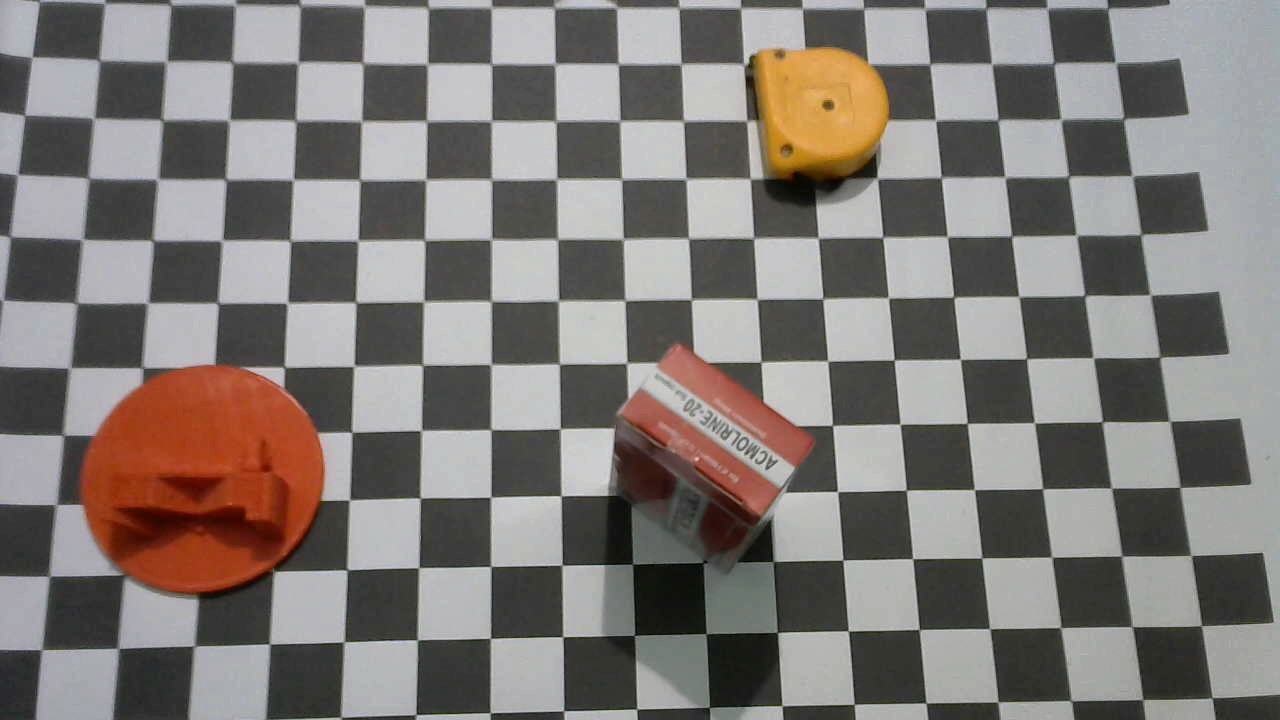blue: (737, 47, 891, 187)
green: (78, 365, 325, 601)
red: (604, 345, 817, 577)
